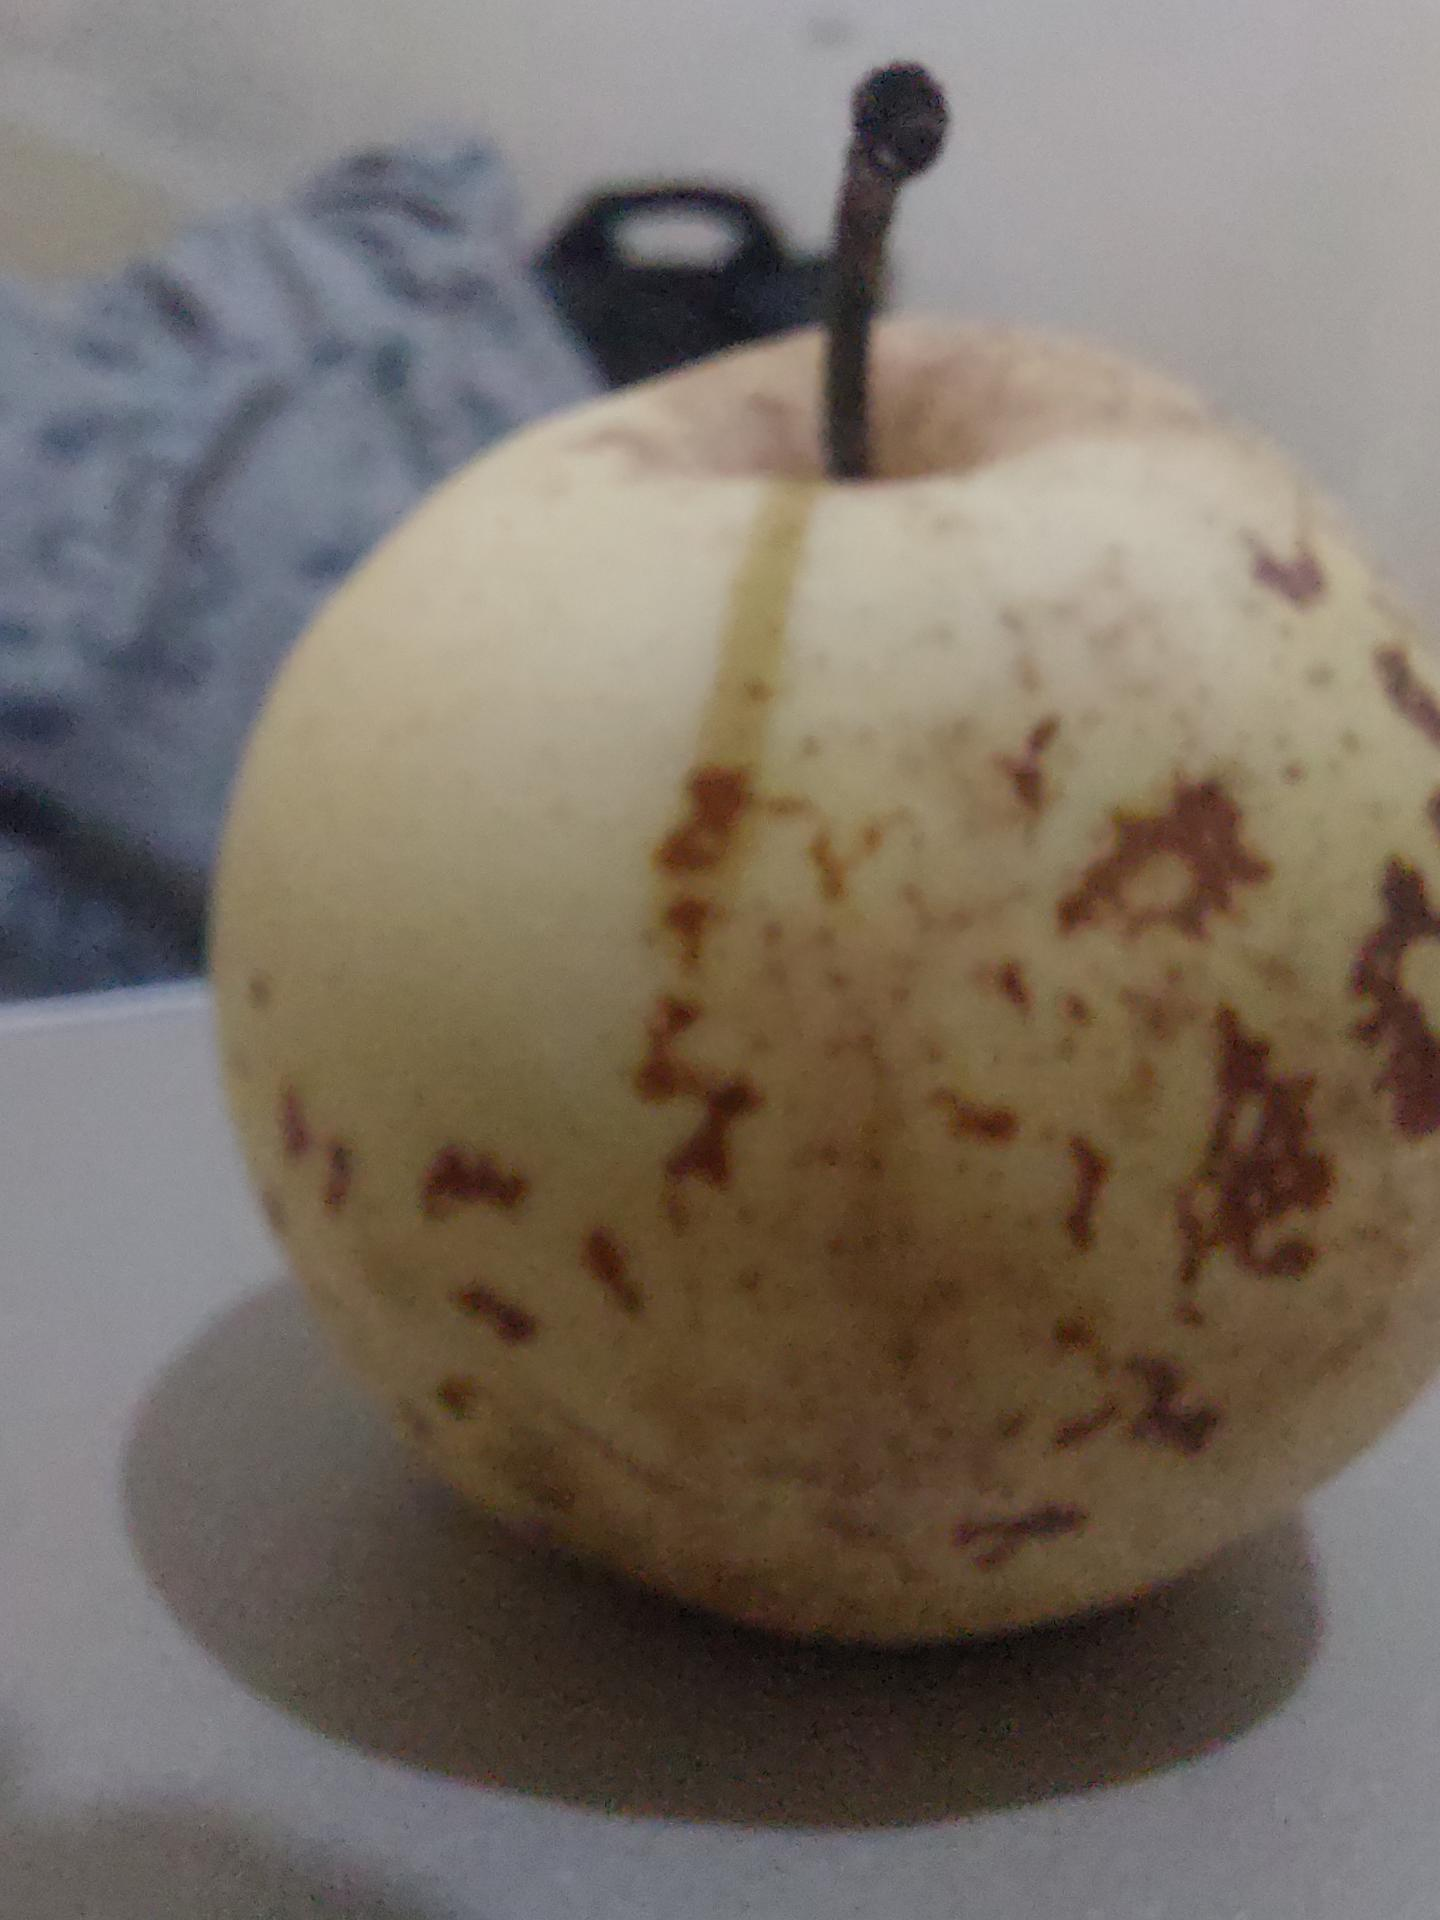Bad Pear: (192, 293, 1440, 1669)
